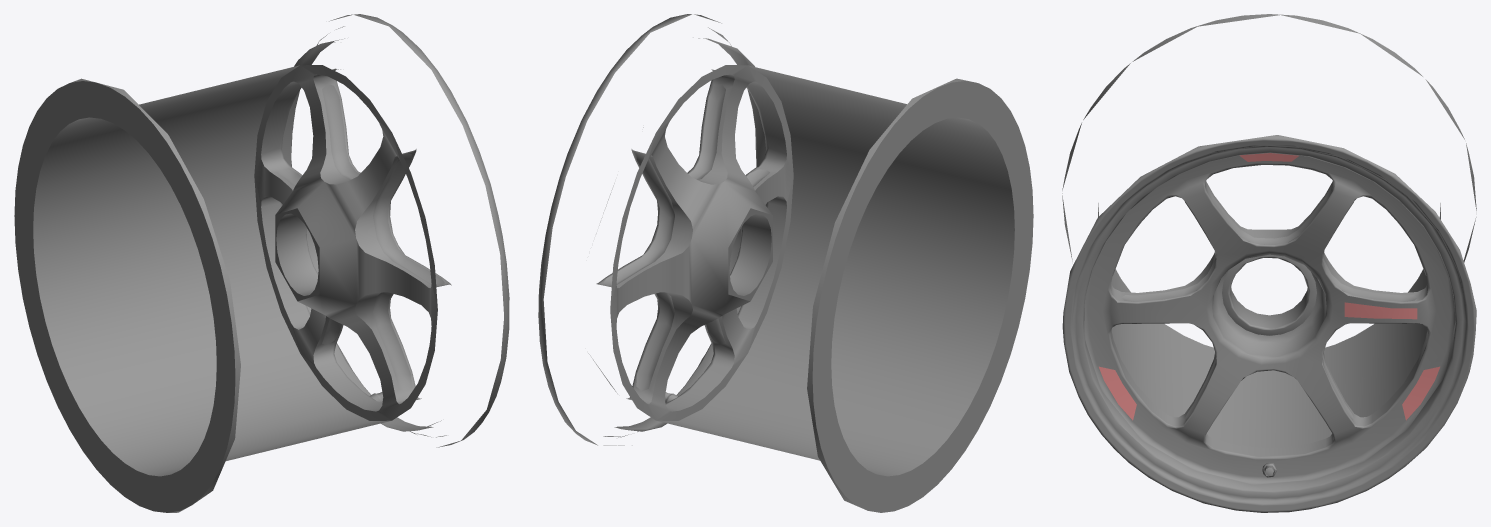
File: nissan_gtr_gt3_2017_rim_lf_Lod1.gltf
3 renders of one model, left to right at view 1: azimuth 30°, elevation 25°; view 2: azimuth 150°, elevation 25°; view 3: azimuth 270°, elevation 25°, orthographic. The views are drawn at different scales.
Parts seen in each view (by area): view 1: nissan_gtr_gt3_2017_rim_lf_Lod1; view 2: nissan_gtr_gt3_2017_rim_lf_Lod1; view 3: nissan_gtr_gt3_2017_rim_lf_Lod1.
Part boxes in pixels (x1=…): nissan_gtr_gt3_2017_rim_lf_Lod1: x1=14, y1=14, x2=509, y2=512; nissan_gtr_gt3_2017_rim_lf_Lod1: x1=538, y1=14, x2=1033, y2=512; nissan_gtr_gt3_2017_rim_lf_Lod1: x1=1062, y1=14, x2=1476, y2=512.
Size of the model in its own units: 0.3577 by 0.5022 by 0.5016.
